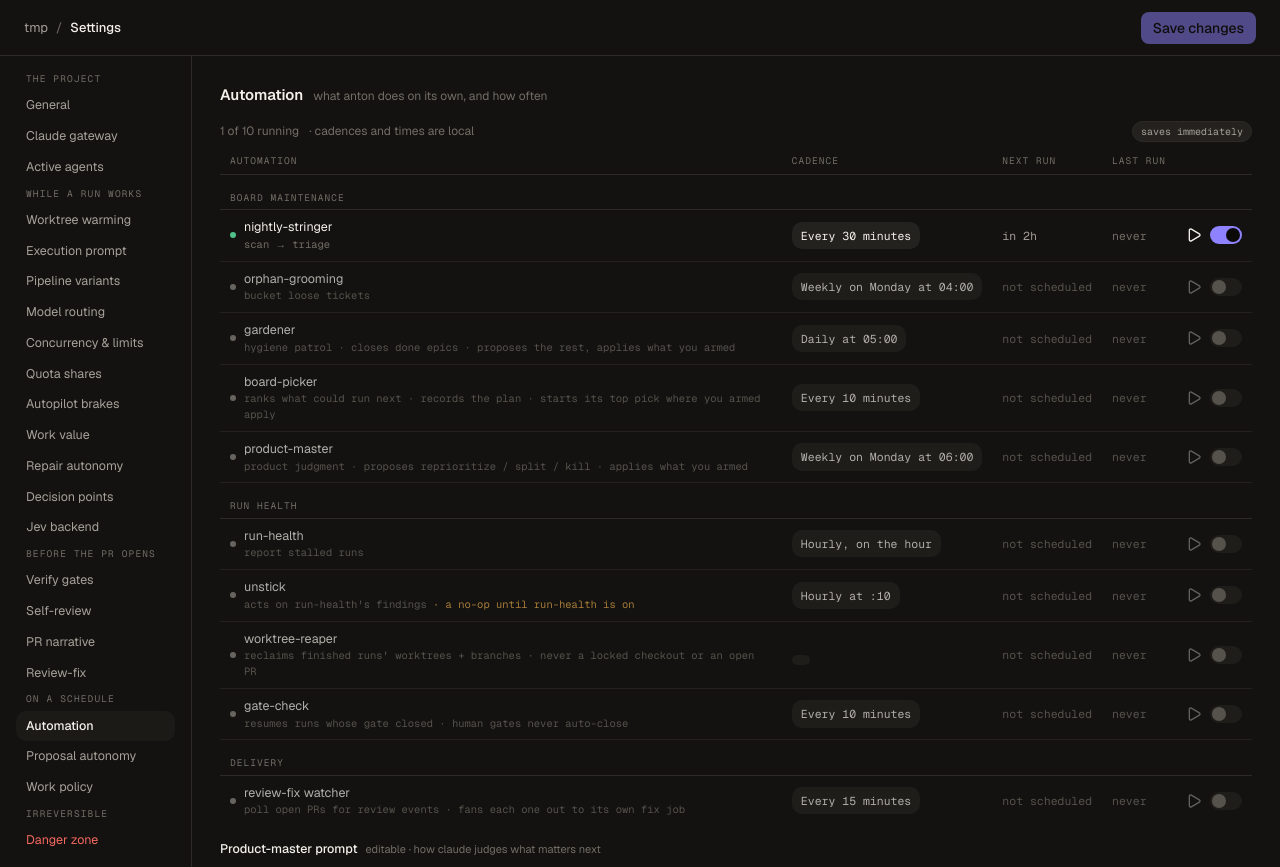
Test case: SettingsView automation table (anton-ue90.4 / anton-ue90.5) › keeps the raw expression reachable, seeded with what the picker would store
This screenshot has width=1280, height=867.
Click the button "Every 30 minutes": point(856, 235) [792,222,920,249]
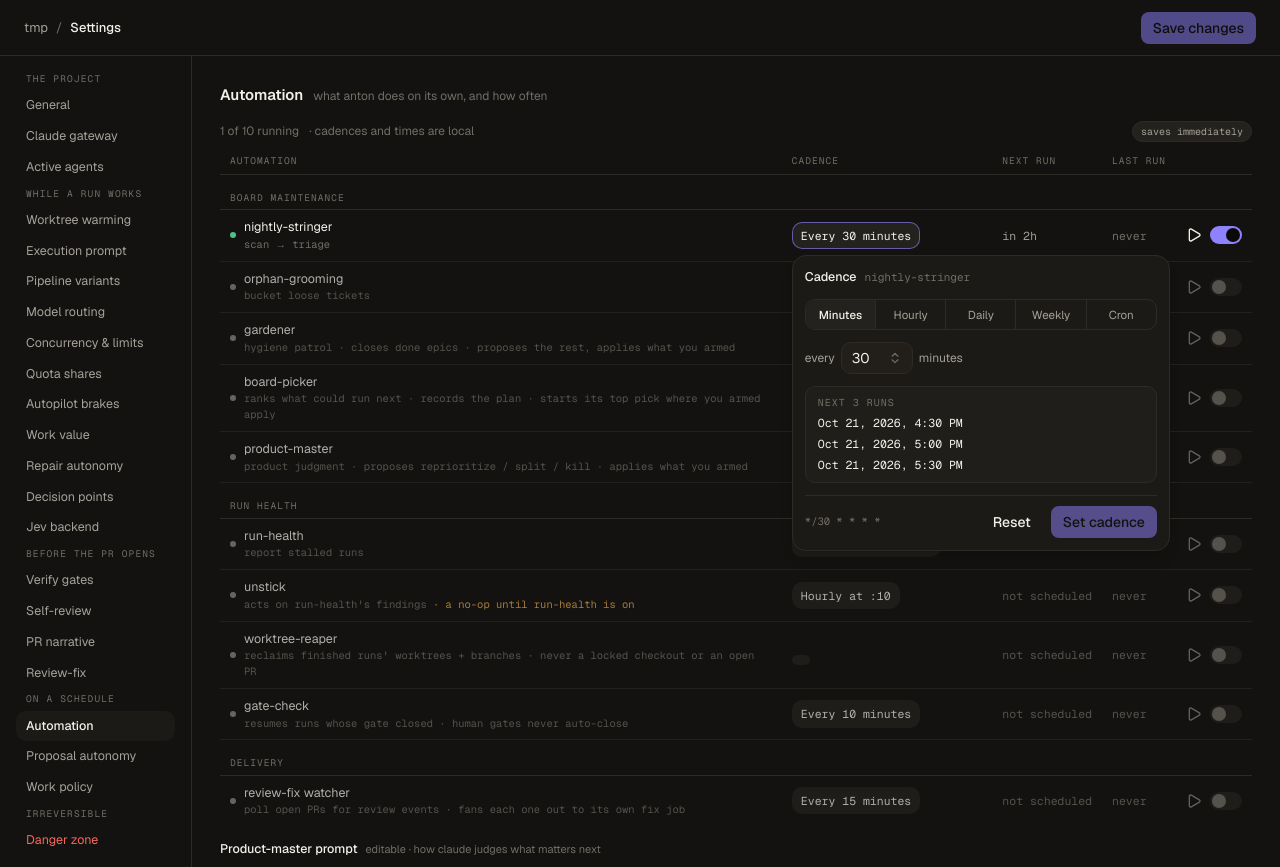
Click the button "Cron": point(1121, 314) [1087,300,1156,329]
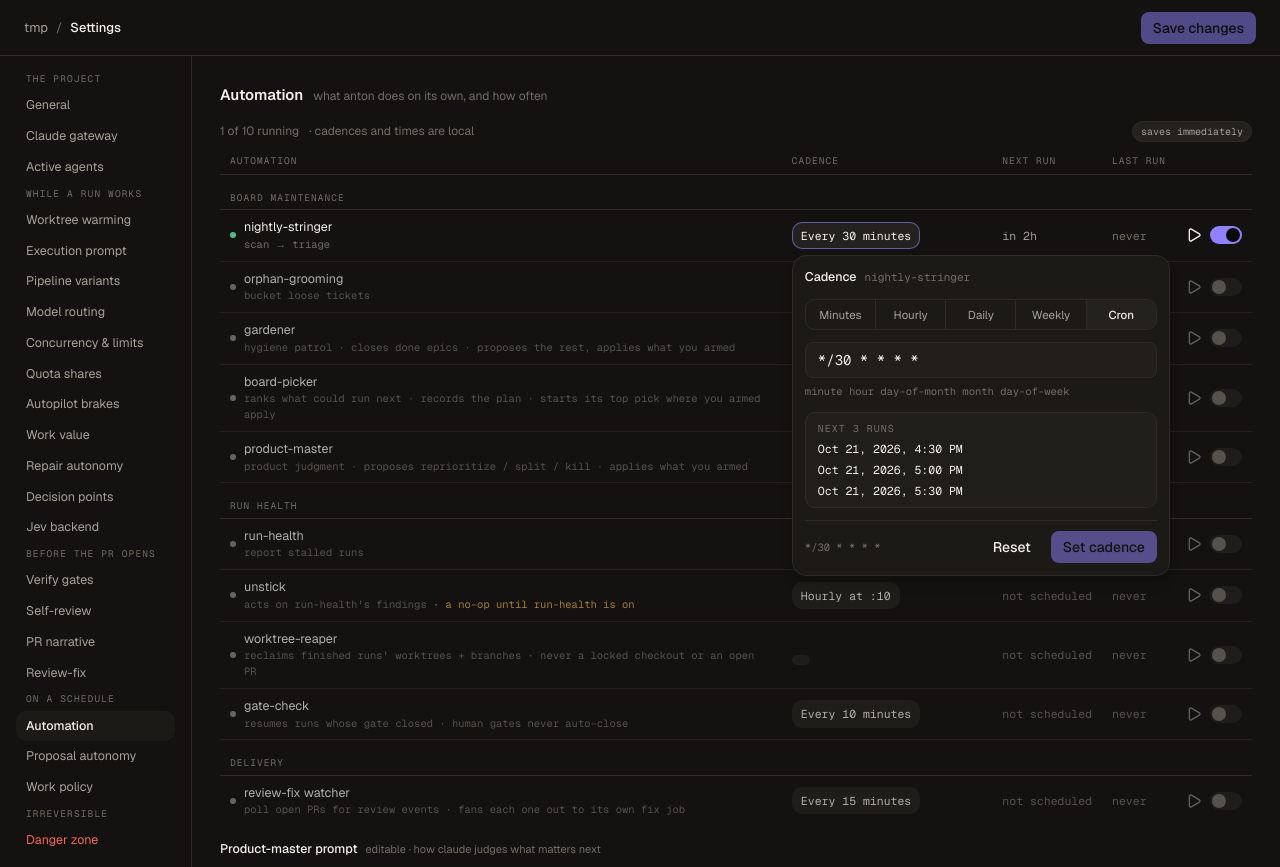
Result: the field named "nightly-stringer cron expression" holds "*/30 * * * *" at [805,342,1157,378]
